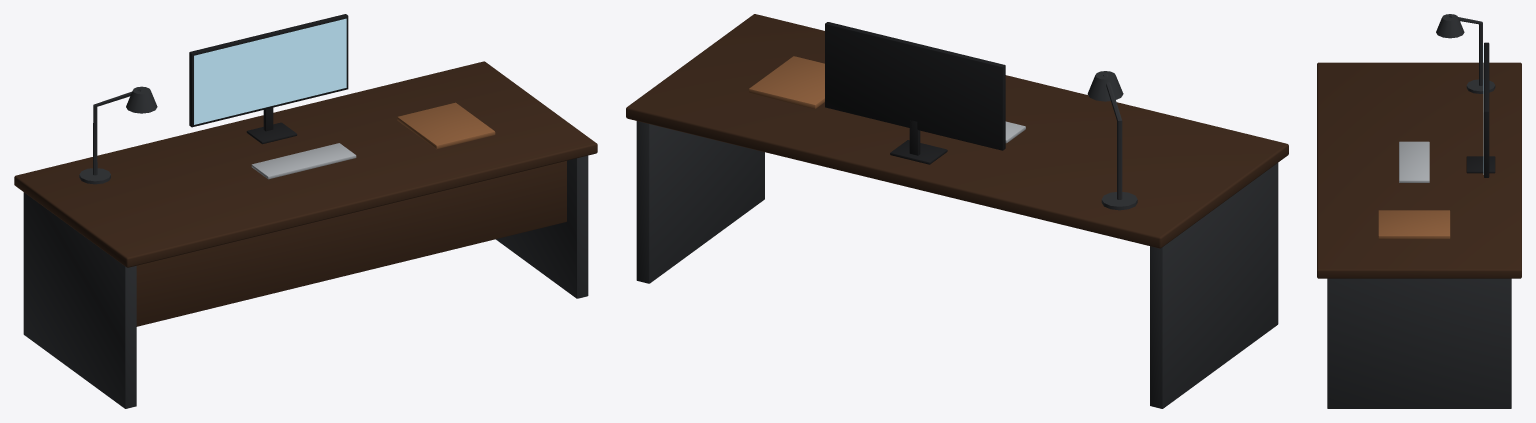
The model's file is vantage_exec_desk.glb.
The picture shows the model from 3 angles, left to right: view 1: azimuth 30°, elevation 25°; view 2: azimuth 150°, elevation 25°; view 3: azimuth 270°, elevation 25°; orthographic projection. The views are drawn at different scales.
Parts seen in each view (by area): view 1: vantage_exec_desk; view 2: vantage_exec_desk; view 3: vantage_exec_desk.
Part boxes in pixels (x1,y1,x2,y2): vantage_exec_desk: [14, 14, 597, 408]; vantage_exec_desk: [626, 14, 1288, 408]; vantage_exec_desk: [1317, 14, 1521, 408].
Size of the model in its own units: 2.4 by 1.24 by 1.
